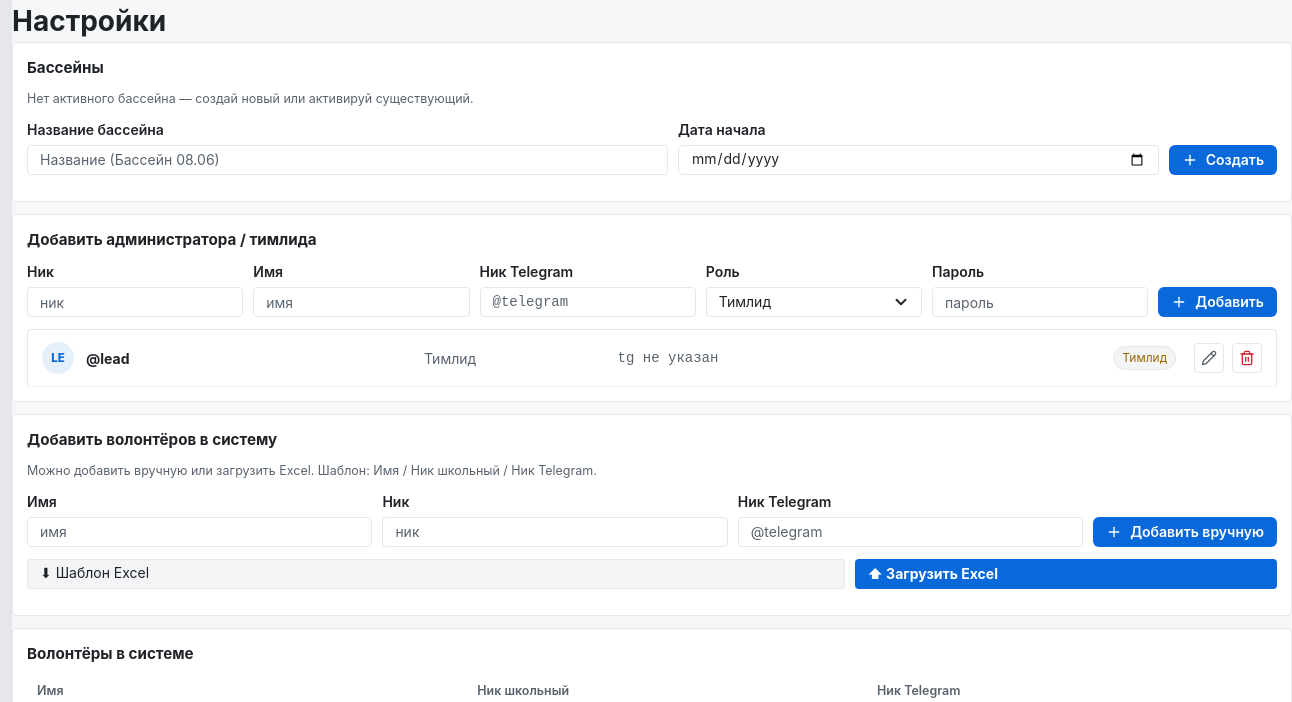
Test: preserves the existing optional password behavior when creating a staff user
The image size is (1292, 702).
Expected: the text "@lead" is shown, [86,350,130,367]
Type "new_admin" into the field labelled "Ник" below "Добавить администратора / тимлида" at point(135, 302), box [27,287,243,317]
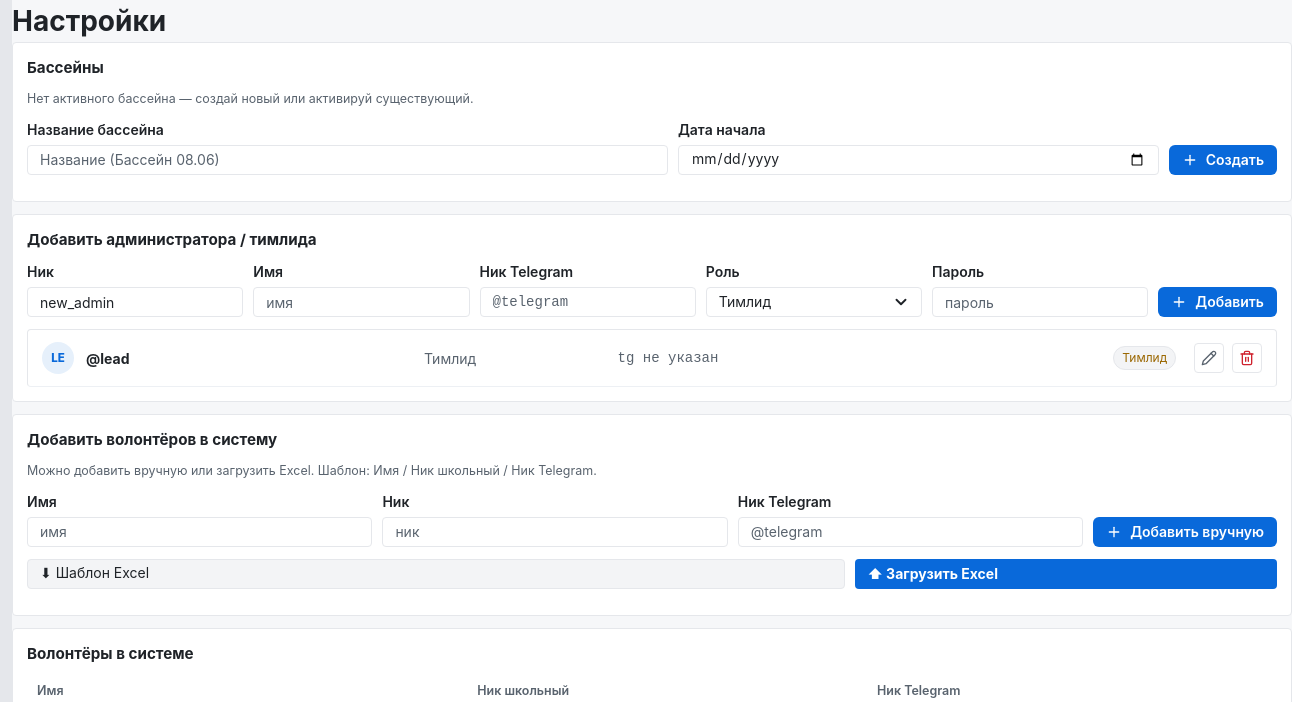
Select "Админ" in the dropdown labelled "Роль" at point(814, 302), box [706,287,922,317]
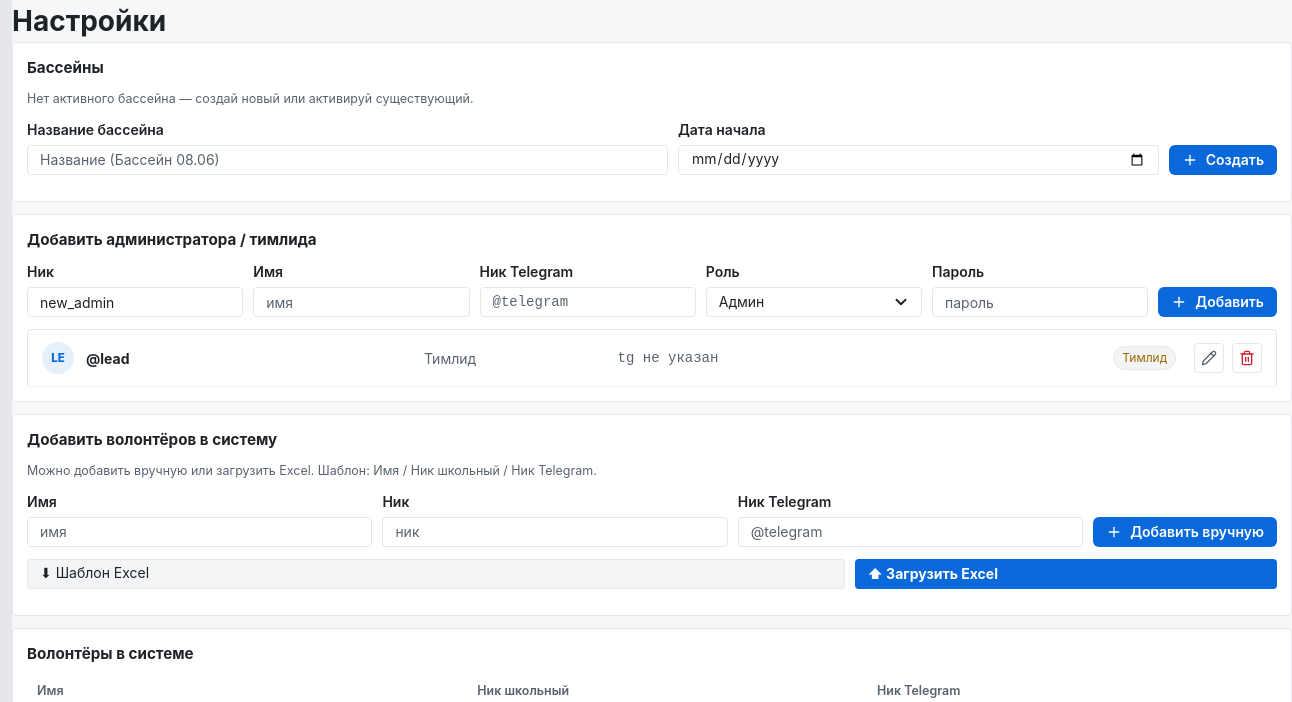
Click the button "Добавить" at point(1218, 302), box [1158,287,1277,317]
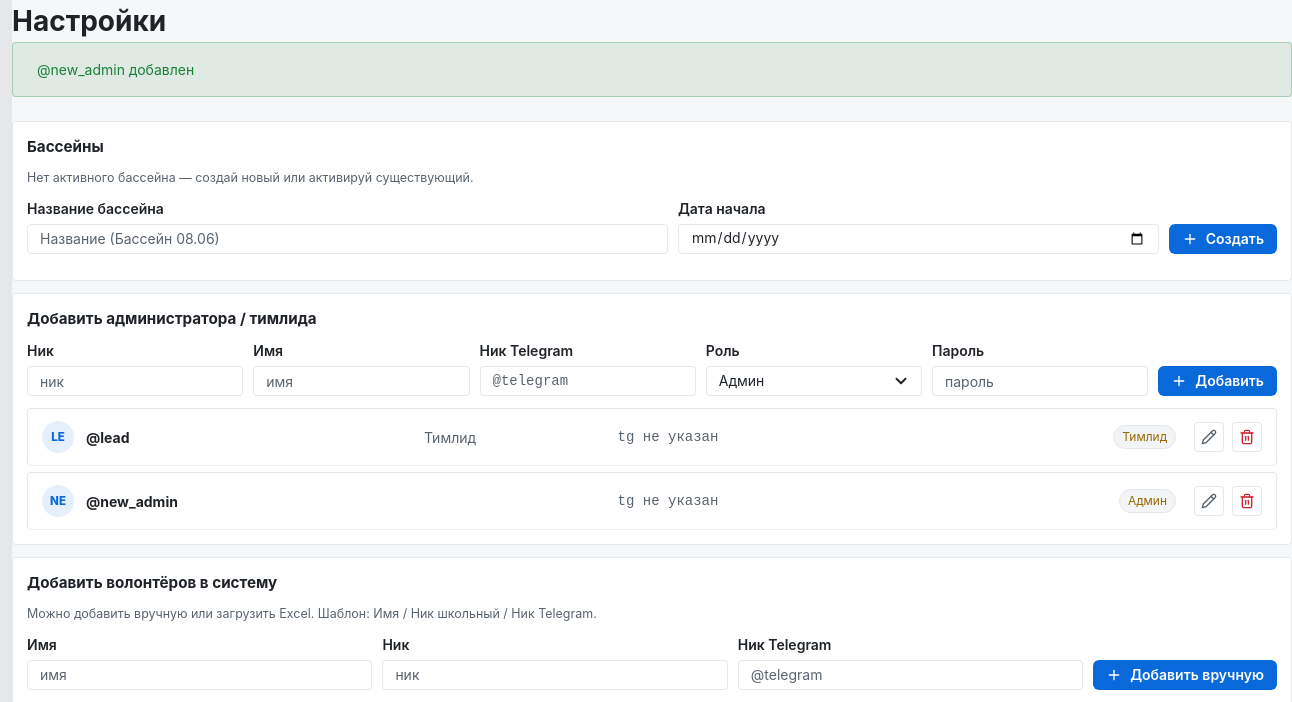
Expected: the text "@new_admin добавлен" is shown, [12,42,1291,97]
